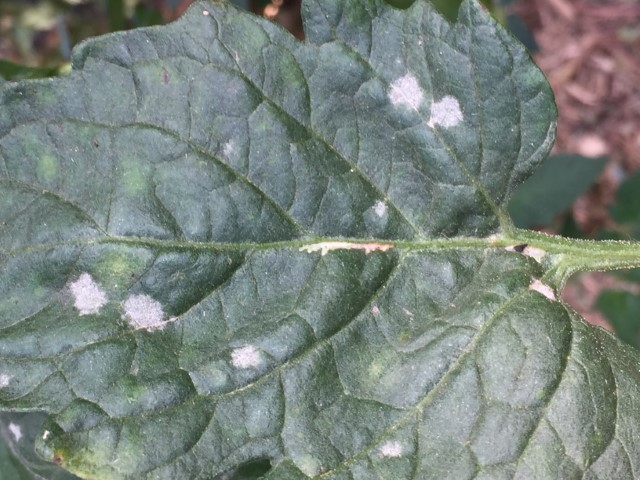oidio: (118, 293, 167, 334), (67, 272, 109, 317), (389, 71, 424, 109), (427, 94, 464, 129), (229, 345, 261, 369), (528, 278, 558, 302), (380, 440, 402, 459), (10, 422, 22, 443), (372, 199, 386, 216), (221, 139, 233, 156), (1, 373, 10, 389), (40, 429, 49, 440)
